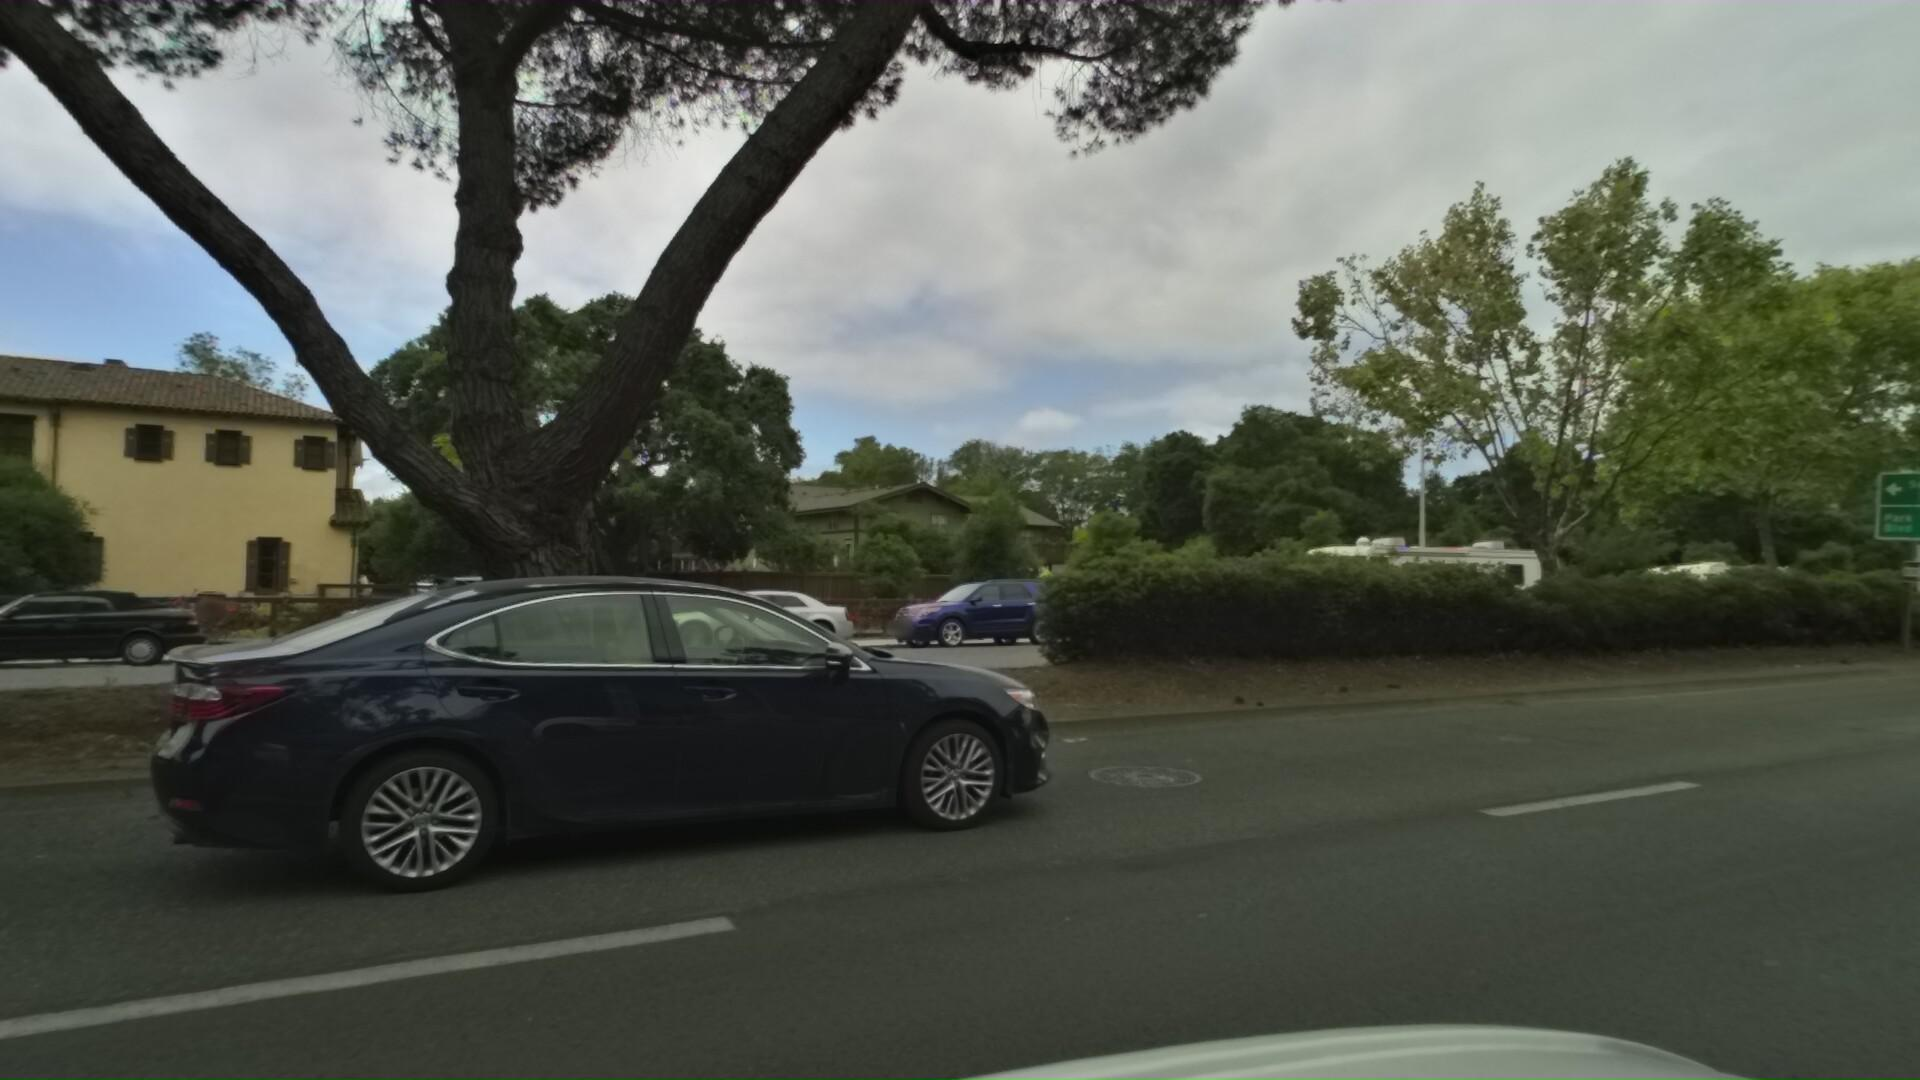car: (128, 469, 1091, 949), (291, 568, 567, 663), (603, 582, 844, 655), (0, 582, 185, 678), (857, 570, 1069, 649)
other_vehicle: (1261, 510, 1545, 642), (1611, 545, 1792, 625)
